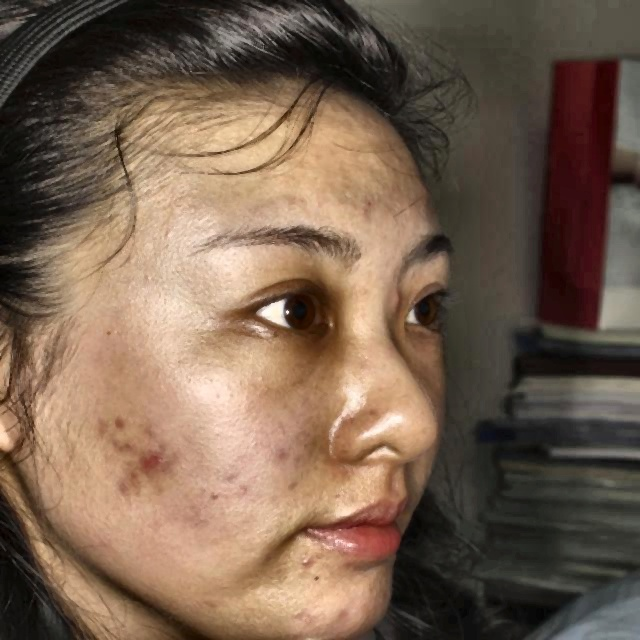pustule: (136, 442, 174, 465), (87, 414, 117, 442), (104, 410, 130, 431), (110, 468, 144, 482), (114, 476, 134, 499), (295, 546, 314, 567), (120, 434, 133, 454)
